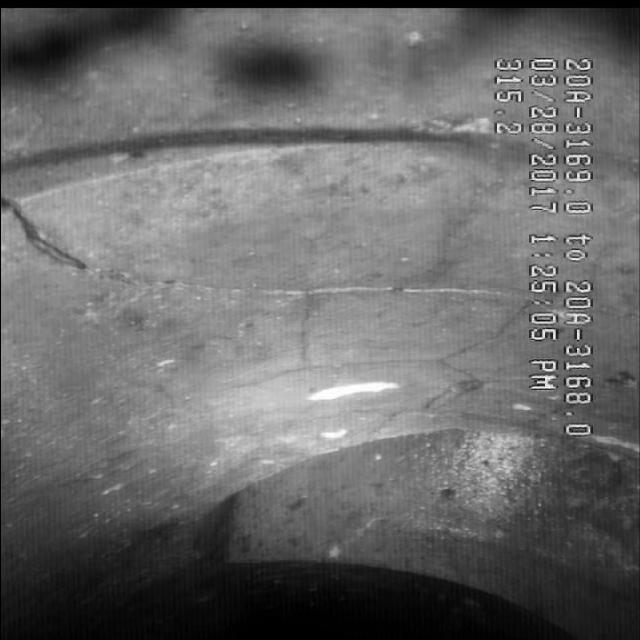Crack: (25, 238, 503, 334)
